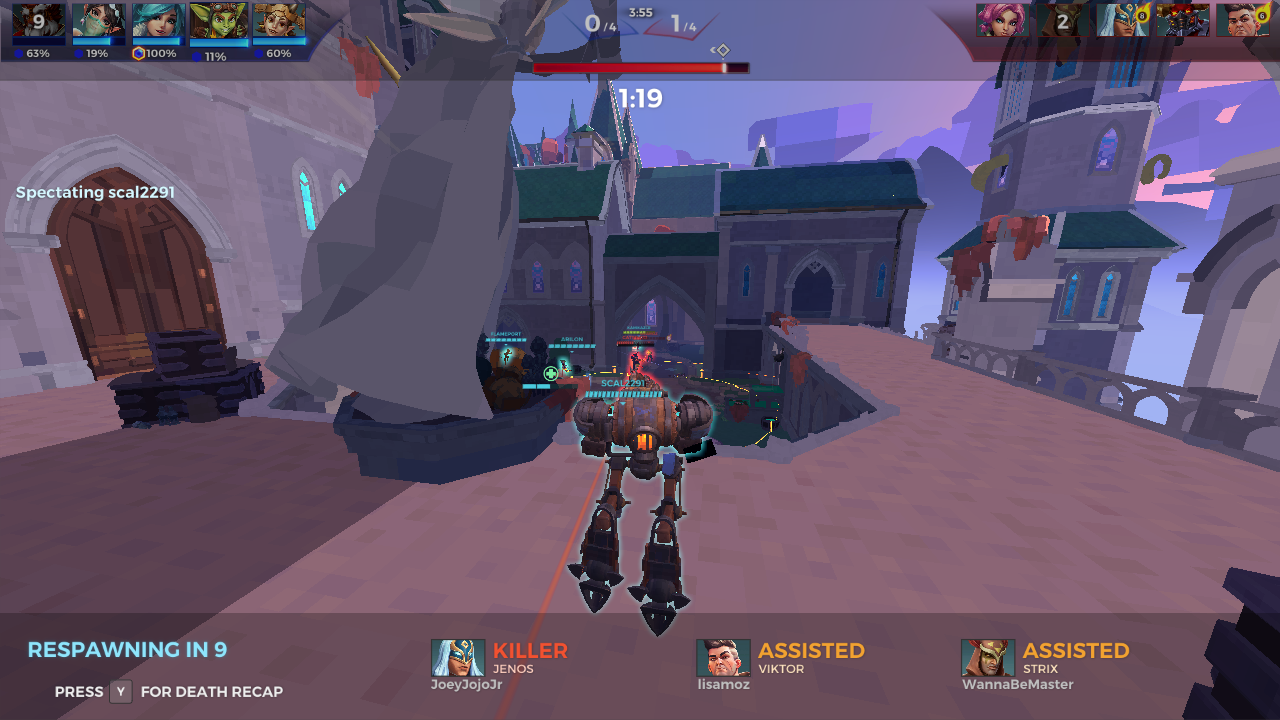model: (643, 345, 658, 366), (628, 353, 642, 375)
